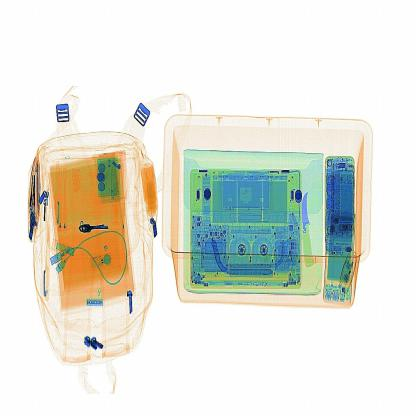wrench: (286, 180, 318, 274)
